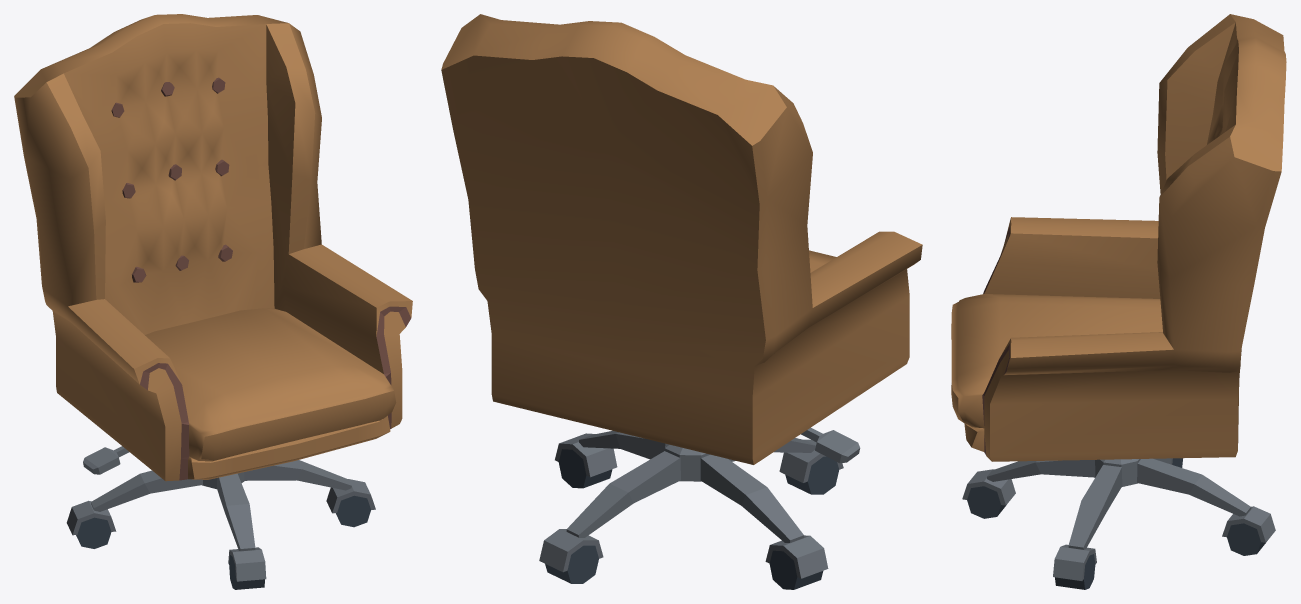
The model's file is Chair_07.FBX.
3 renders of one model, left to right at view 1: azimuth 30°, elevation 25°; view 2: azimuth 150°, elevation 25°; view 3: azimuth 270°, elevation 25°, orthographic. The views are drawn at different scales.
Parts seen in each view (by area): view 1: Chair_07; view 2: Chair_07; view 3: Chair_07.
Part boxes in pixels (x1,y1,x2,y2): Chair_07: [14, 14, 412, 589]; Chair_07: [441, 14, 922, 589]; Chair_07: [951, 14, 1286, 589].
Bounding box in the file's own units: 72.25 × 116 × 72.57.
